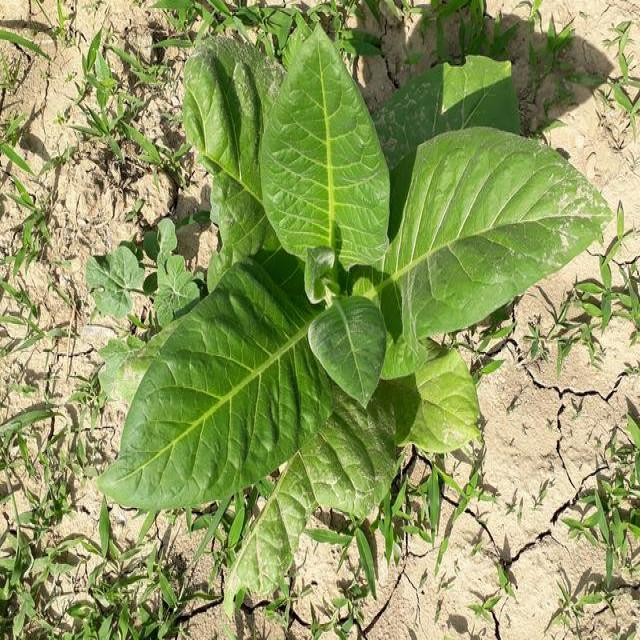crop: (123, 45, 598, 616)
